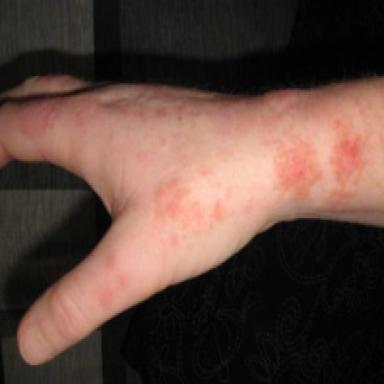eczema: (16, 91, 97, 139), (324, 121, 367, 211), (274, 128, 322, 199), (155, 176, 203, 235), (98, 287, 113, 309), (212, 198, 222, 221), (116, 271, 127, 288), (155, 103, 167, 117), (105, 252, 115, 268)
